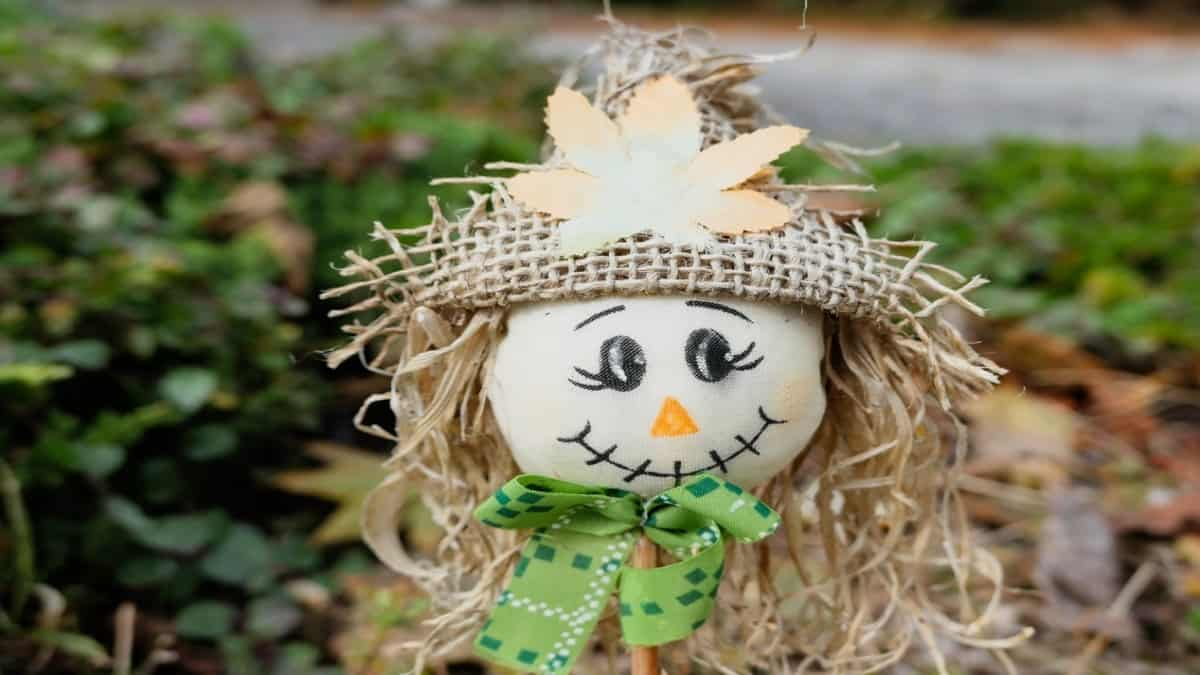person-like: (340, 24, 987, 675)
